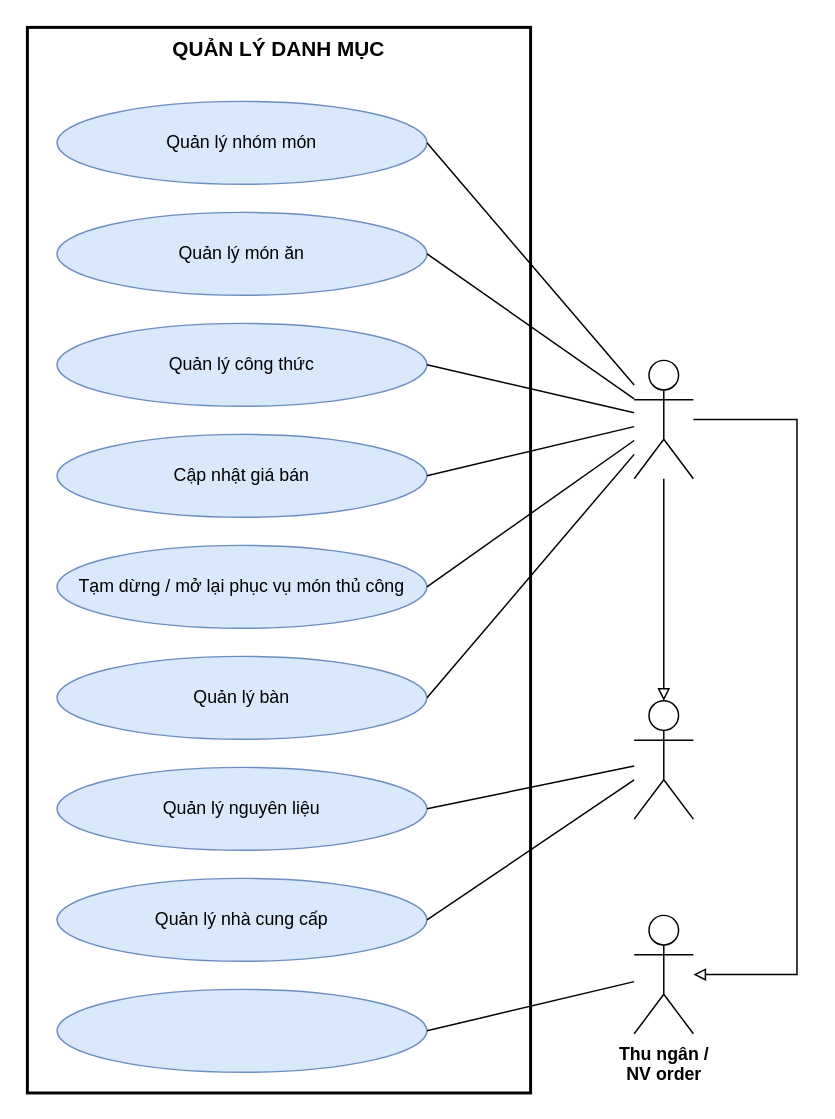
Some shapes in this 835 by 1119 pixel diagram are drawn without their labels. Here are the shapes that lost their labels. From the top down, the box of each, then its label:
(633, 359, 693, 479): Quản lý
(633, 699, 693, 819): Bếp
(56, 988, 427, 1072): Xem thực đơn và sơ đồ bàn
